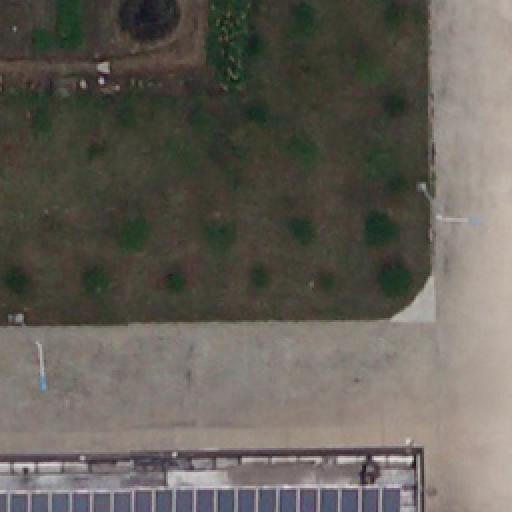solar-panel: (0, 484, 400, 512)
